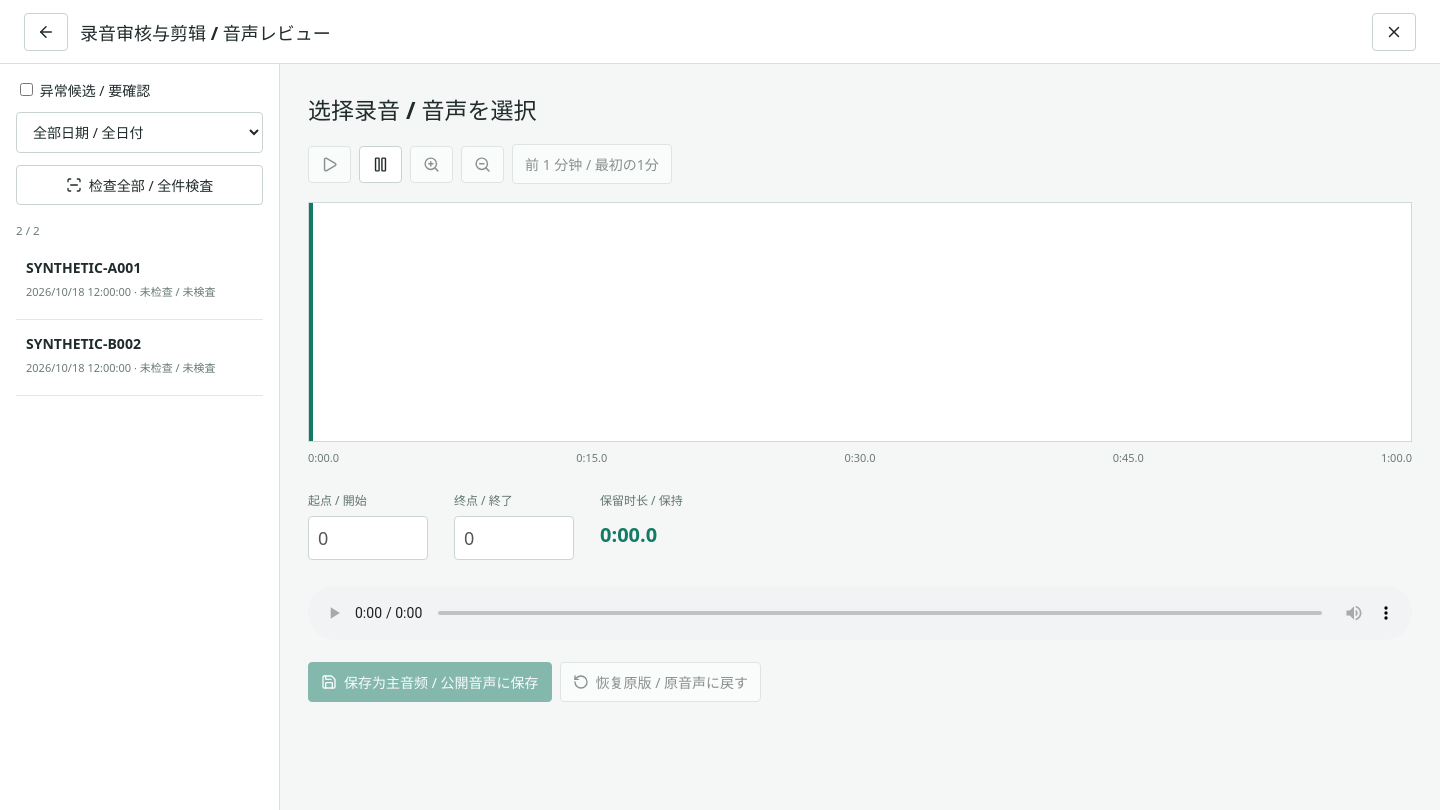
Test: clears prior audio and waveform when another recording cannot be decoded
Click the button "SYNTHETIC-A001 2026/10/18 12:00:00 · 未检查 / 未検査" at (140,282), box top-left (16, 244), bottom-right (263, 320)
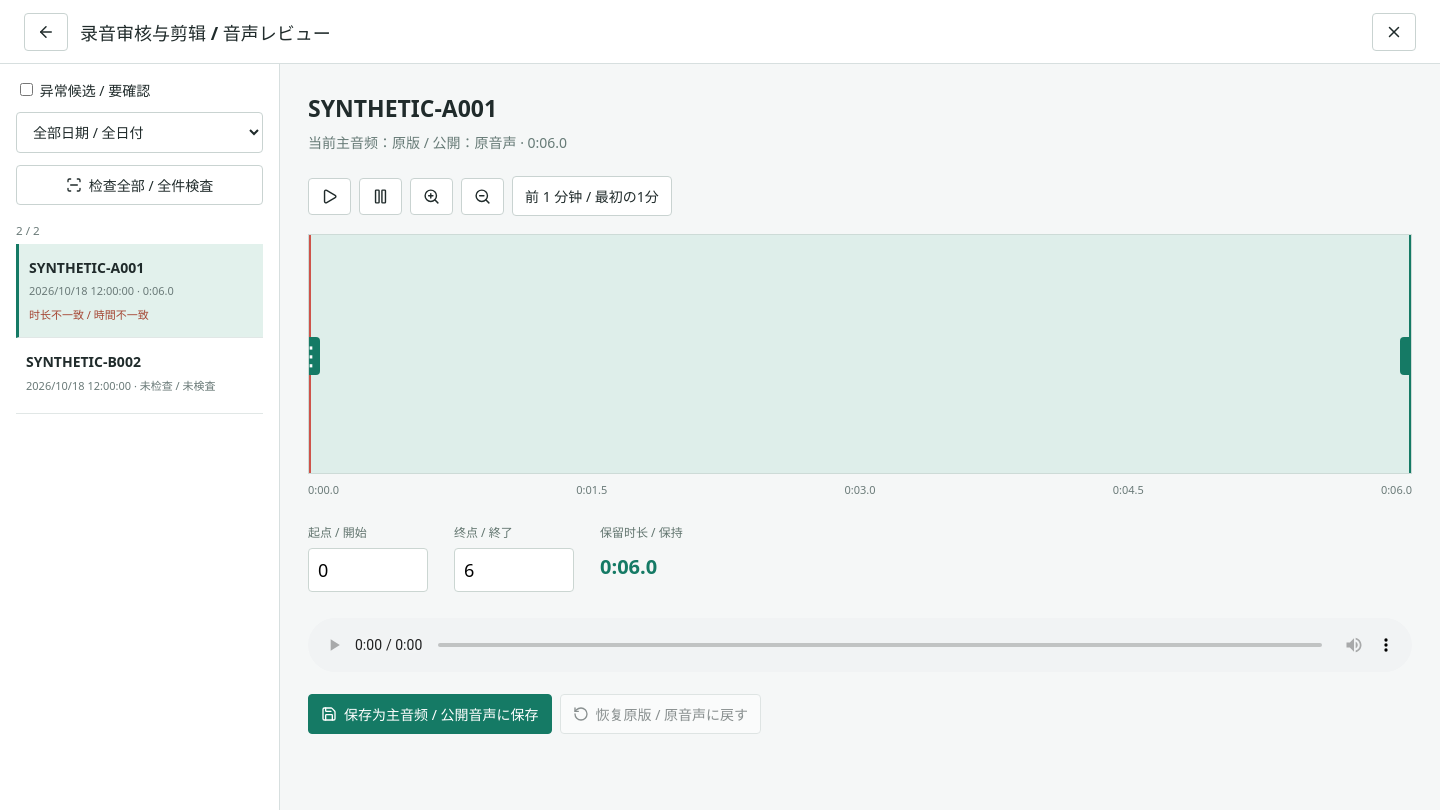
expect the button named "试听选段 / 選択範囲を再生" is enabled: met, box top-left (308, 178), bottom-right (351, 214)
Click the button "SYNTHETIC-B002 2026/10/18 12:00:00 · 未检查 / 未検査" at (140,376), box top-left (16, 338), bottom-right (263, 414)
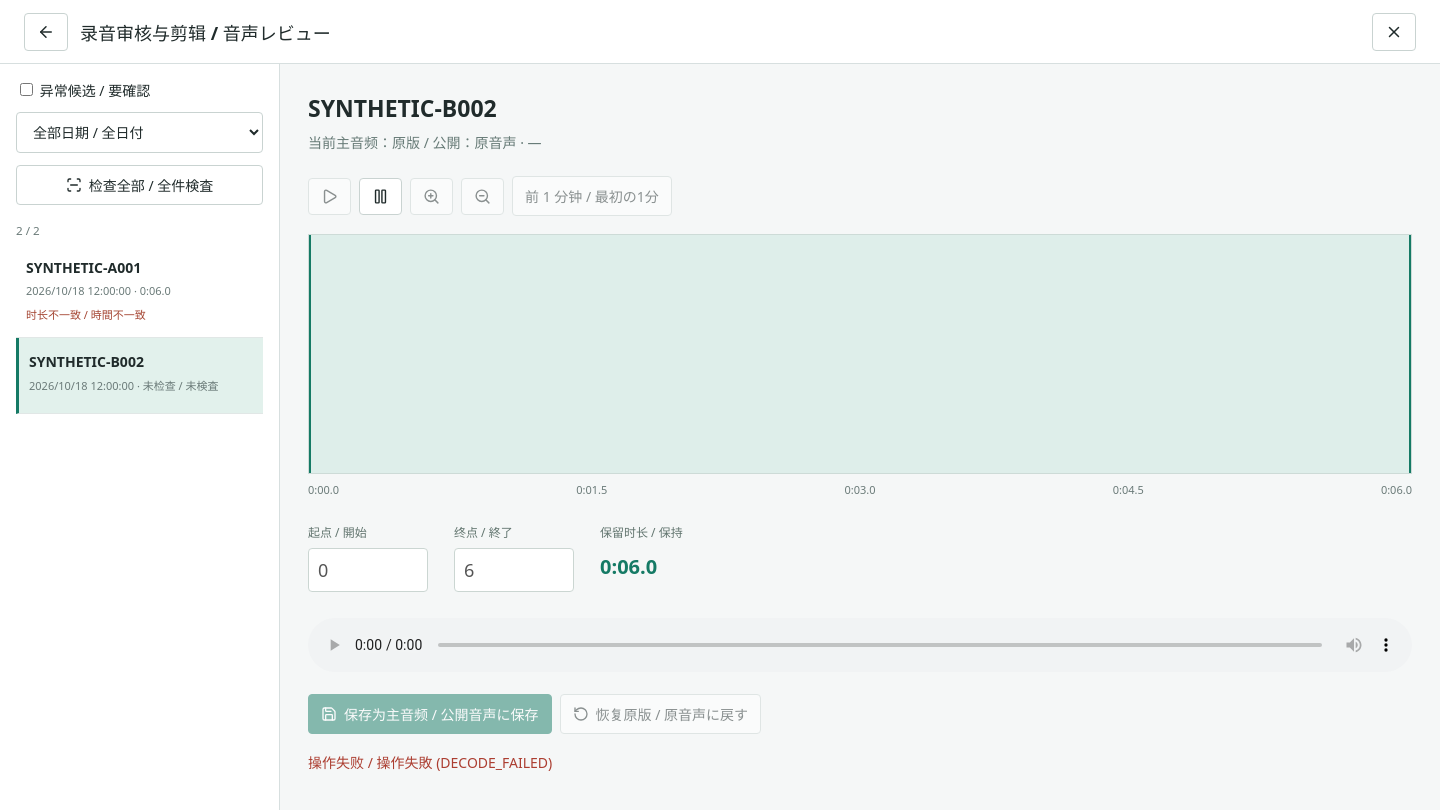
expect the message "操作失败 / 操作失敗 (DECODE_FAILED)" is shown: met, box top-left (308, 753), bottom-right (552, 772)
expect the button named "试听选段 / 選択範囲を再生" is disabled: met, box top-left (308, 178), bottom-right (351, 214)
